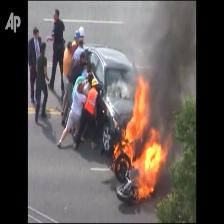fire: (114, 75, 173, 200)
